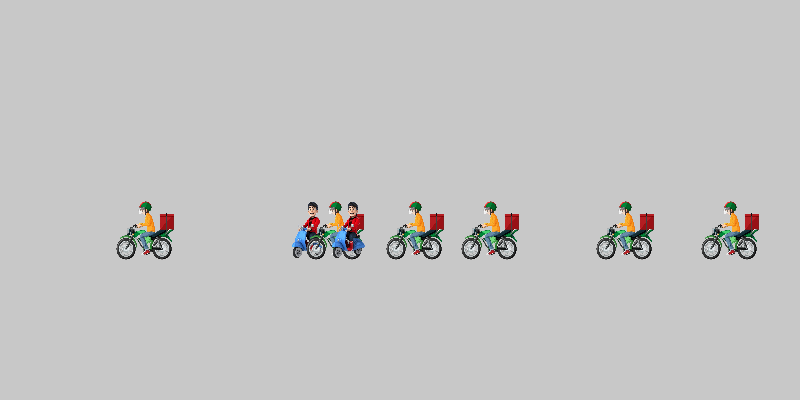helmet: (115, 200, 175, 260), (305, 200, 365, 260), (385, 200, 445, 260), (460, 200, 520, 260), (595, 200, 655, 260), (700, 200, 760, 260)
no_helmet: (280, 200, 340, 260), (320, 200, 380, 260)
